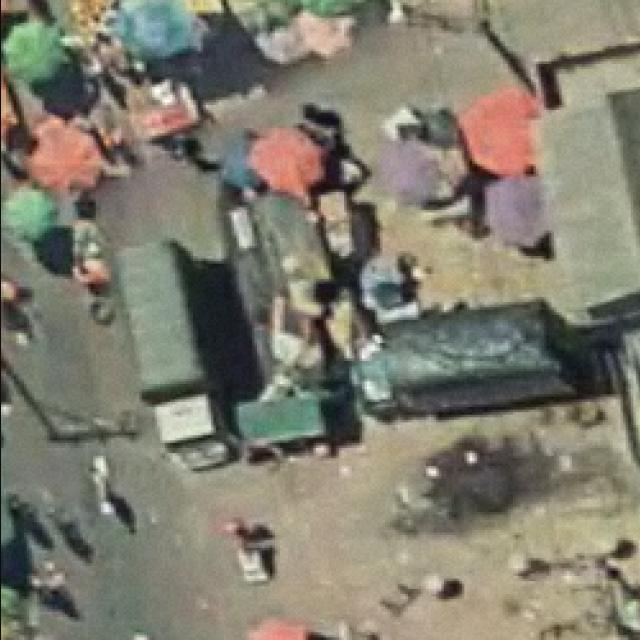vendedor_ambulante: (461, 80, 541, 176), (484, 166, 558, 252), (30, 121, 105, 202), (247, 120, 325, 196), (367, 133, 442, 205), (123, 0, 207, 64), (0, 18, 74, 90), (218, 126, 272, 196), (2, 182, 58, 246), (296, 5, 360, 58), (223, 0, 305, 34), (256, 18, 303, 68), (233, 614, 323, 640)
